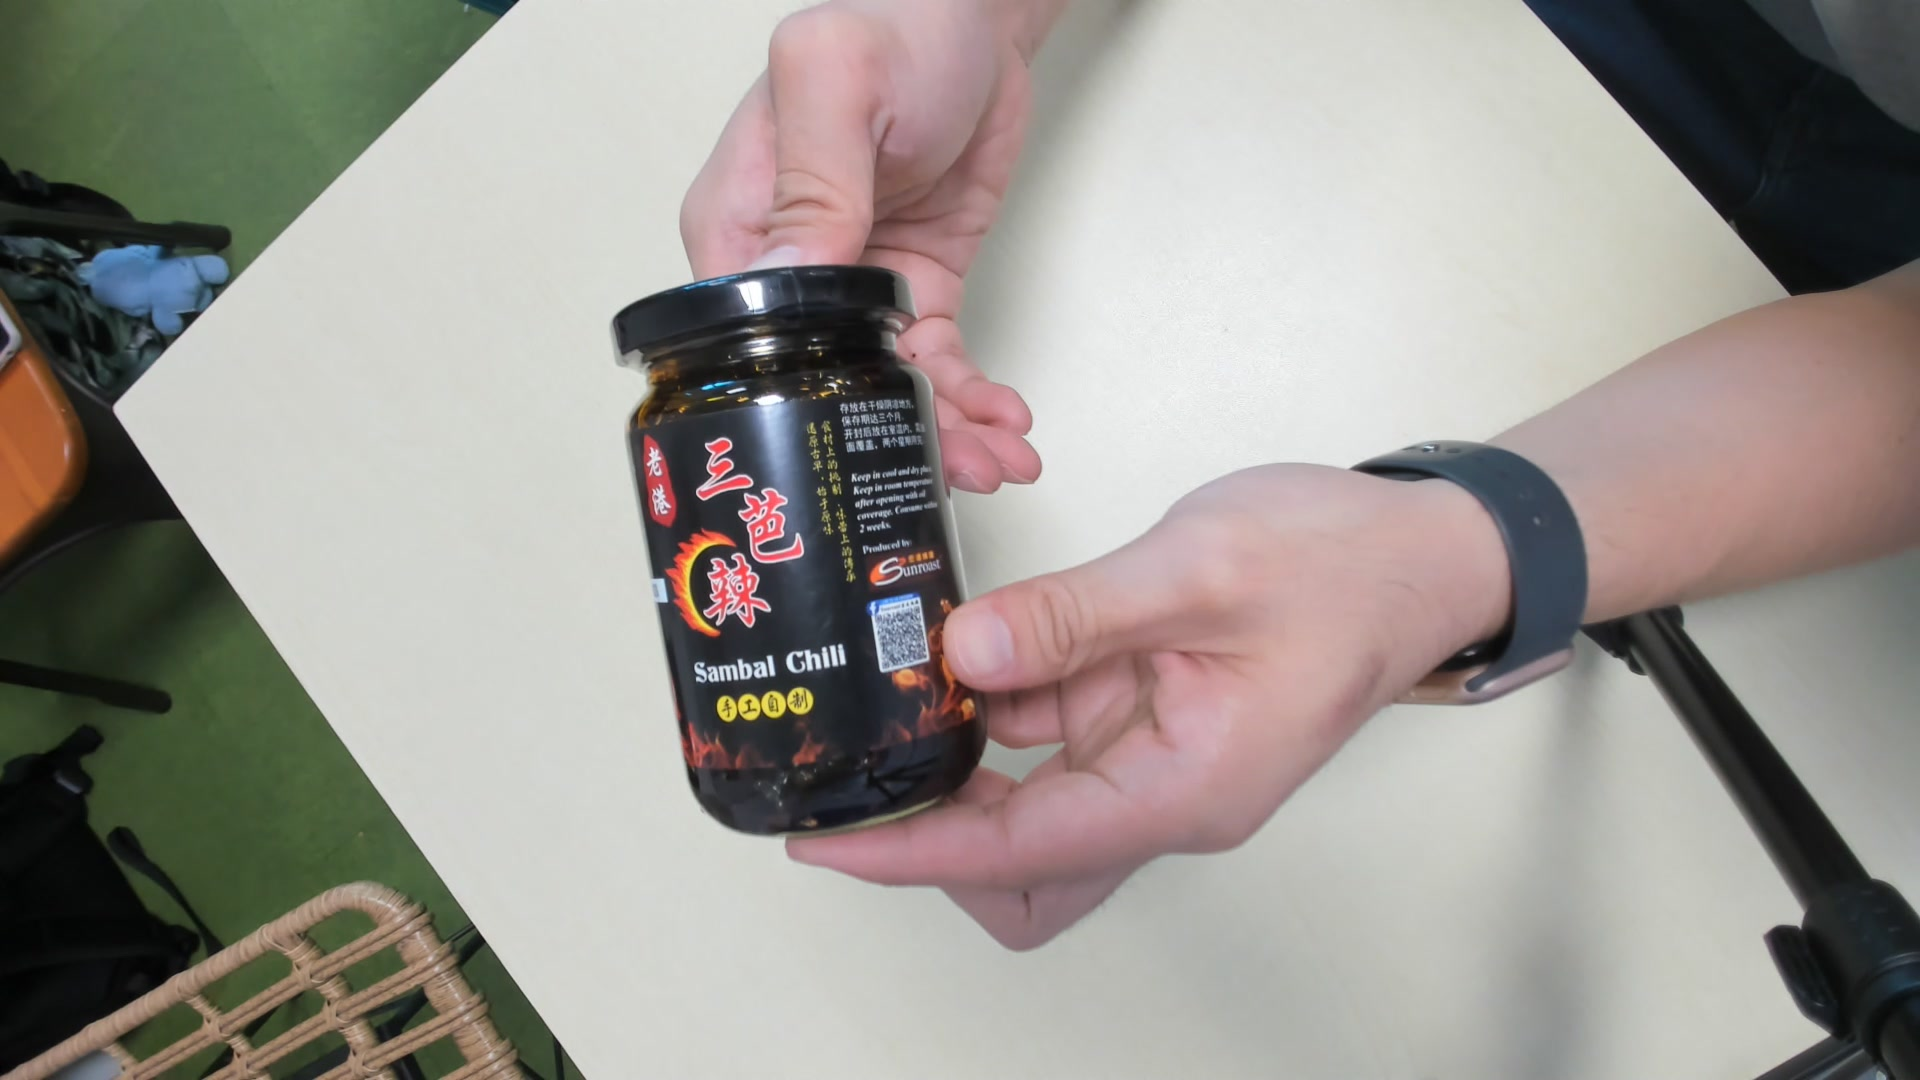OtherSauceDressing_300-399g_NonHalal_NonHealthy: (611, 255, 992, 835)
